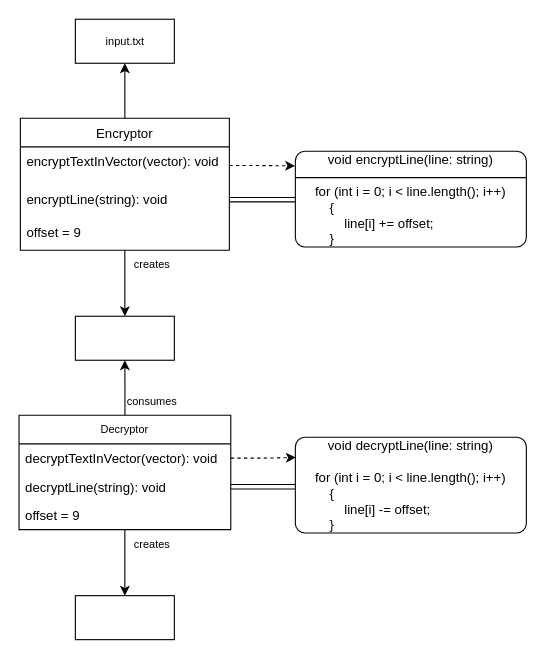
Image size: 547x659. Some labels were removed from this diagram. The shapes that lost their labels are listed below. From the top down, each one's centre as x and y in pixels, then its label:
[124,337]: result.txt
[124,617]: decrypted.txt
